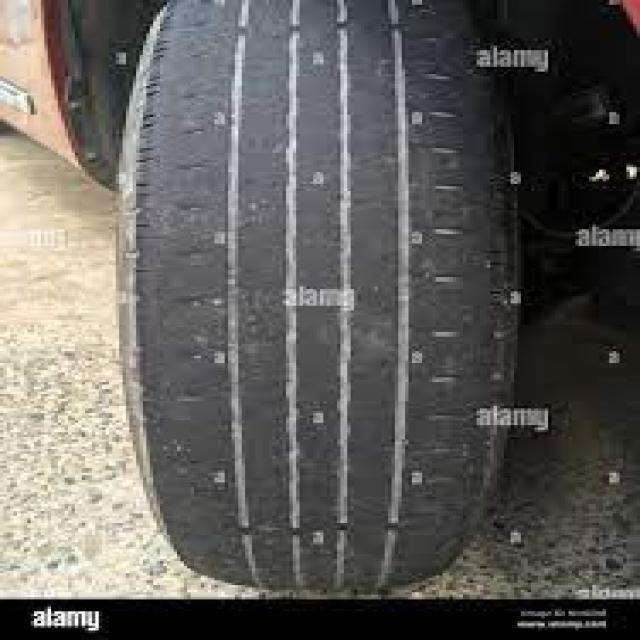Flat spots: (173, 0, 455, 563)
